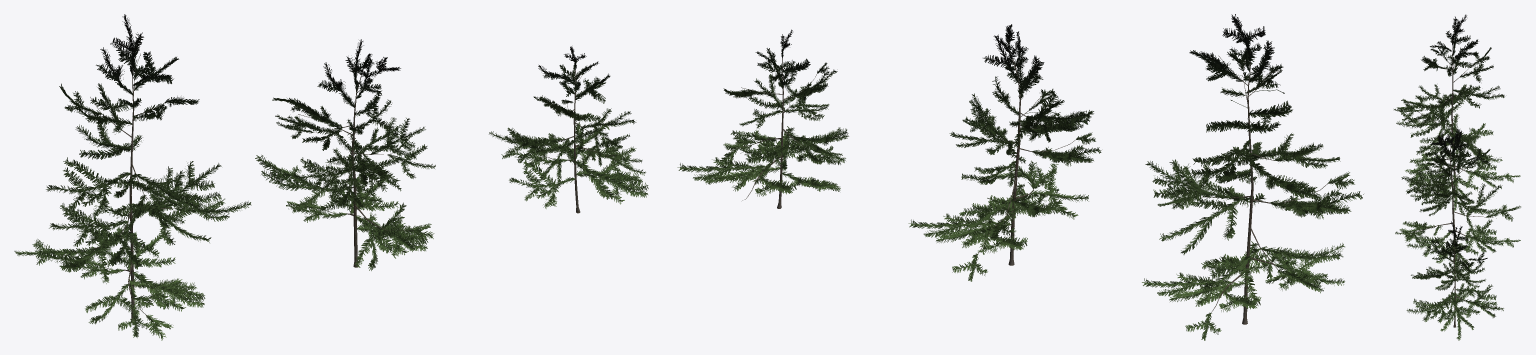
Rendered from fir_sapling_1k.fbx.
The picture shows the model from 3 angles, left to right: view 1: azimuth 30°, elevation 25°; view 2: azimuth 150°, elevation 25°; view 3: azimuth 270°, elevation 25°; orthographic projection. The views are drawn at different scales.
Visible parts, largest first — view 1: fir_sapling_a, fir_sapling_b, fir_sapling_c; view 2: fir_sapling_a, fir_sapling_b, fir_sapling_c; view 3: fir_sapling_a, fir_sapling_b, fir_sapling_c.
Boxes of the visible parts, x1,y1,x2,y2 form: fir_sapling_a: [14, 14, 251, 340]; fir_sapling_b: [255, 39, 435, 270]; fir_sapling_c: [489, 46, 648, 213]; fir_sapling_a: [1142, 14, 1363, 340]; fir_sapling_b: [908, 24, 1101, 281]; fir_sapling_c: [677, 29, 848, 208]; fir_sapling_a: [1394, 14, 1520, 211]; fir_sapling_b: [1395, 128, 1520, 276]; fir_sapling_c: [1406, 221, 1503, 340].
Size of the model in its own units: 274 by 130 by 82.64.
2 materials, 1 textured.
